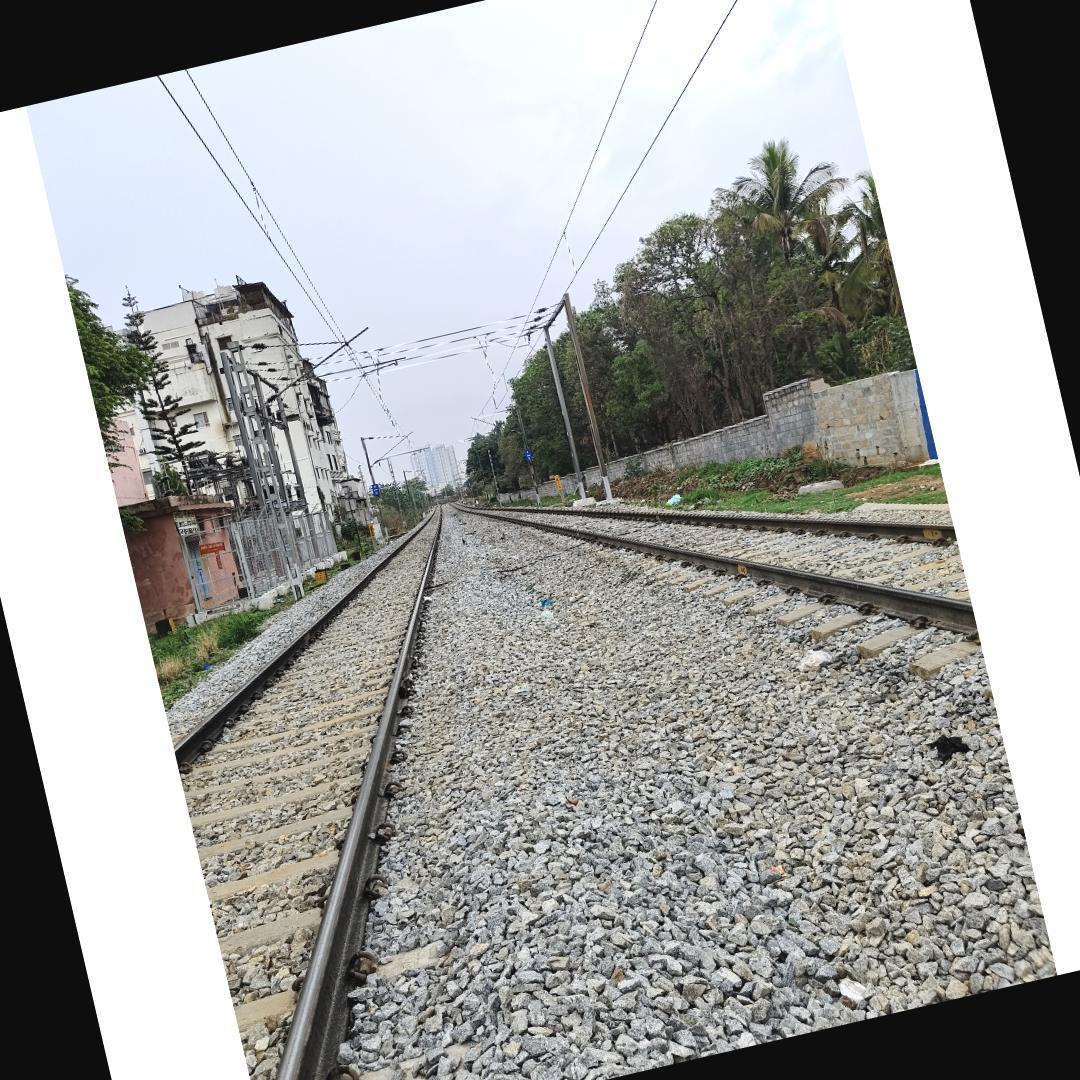track: (166, 501, 449, 1080), (467, 500, 998, 723)
